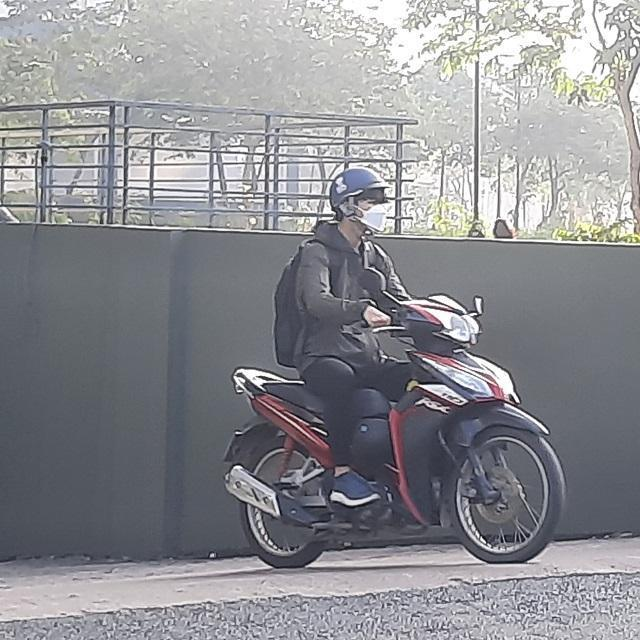Helmet: (331, 165, 394, 239)
